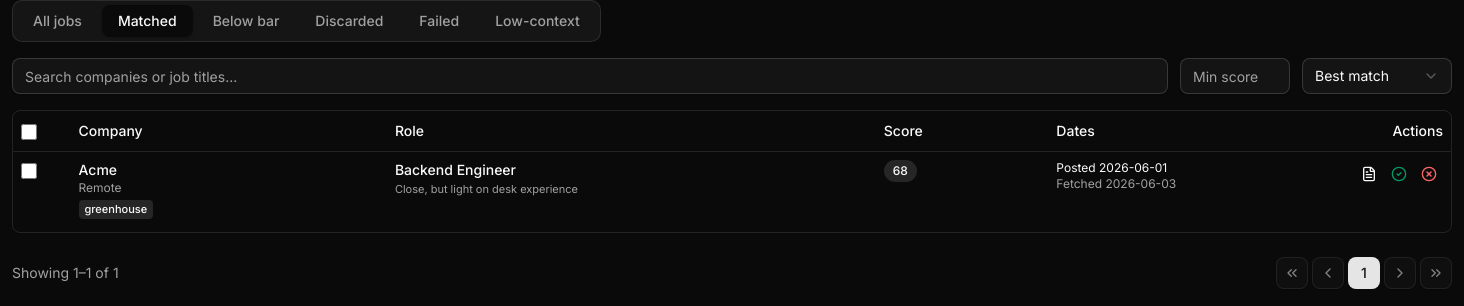
Scenario: DiscoveredJobsTable › renders a bucket-aware why-cell for a below-bar row (domain verdict pill + top gap)
This screenshot has width=1464, height=306.
Click the button "Below bar" at (246, 21), box [197,5,295,37]
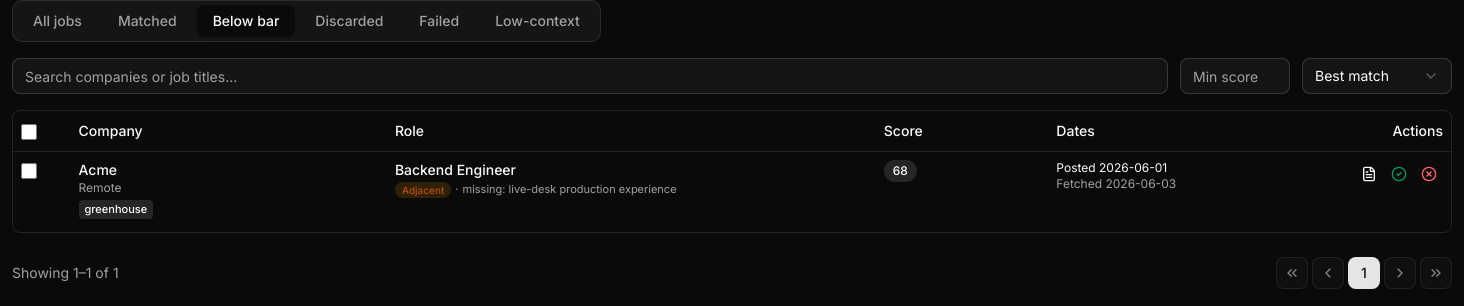
Check: the text "Adjacent" is shown, box [395,182,451,198]
Check: the text "missing: live-desk production experience" is shown, box [462,182,676,198]
